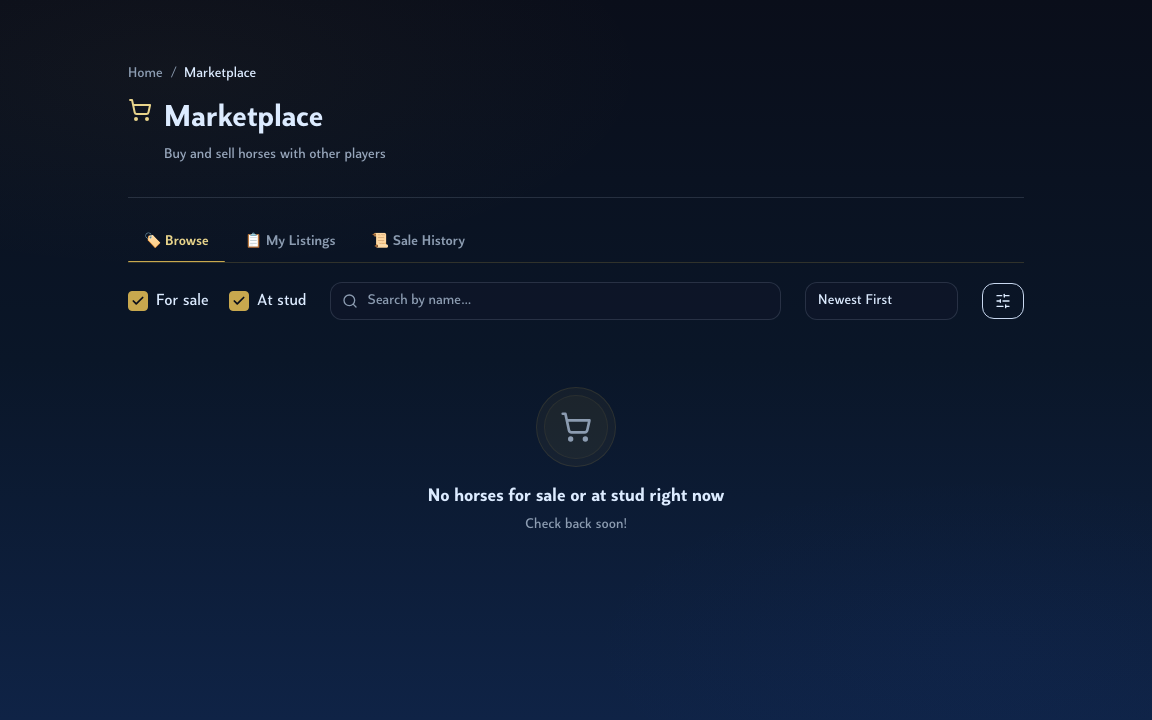
Scenario: HorseMarketplacePage — My Listings + History tabs four-state (Equoria-l22ki) › My Listings: renders error+retry (not a false empty) on a failed fetch
What coordinates should you click on to do the following:
click the tab with test id "tab-my-listings"
I would click on:
 (290, 242)
Its box is x1=229 y1=222 x2=352 y2=262.
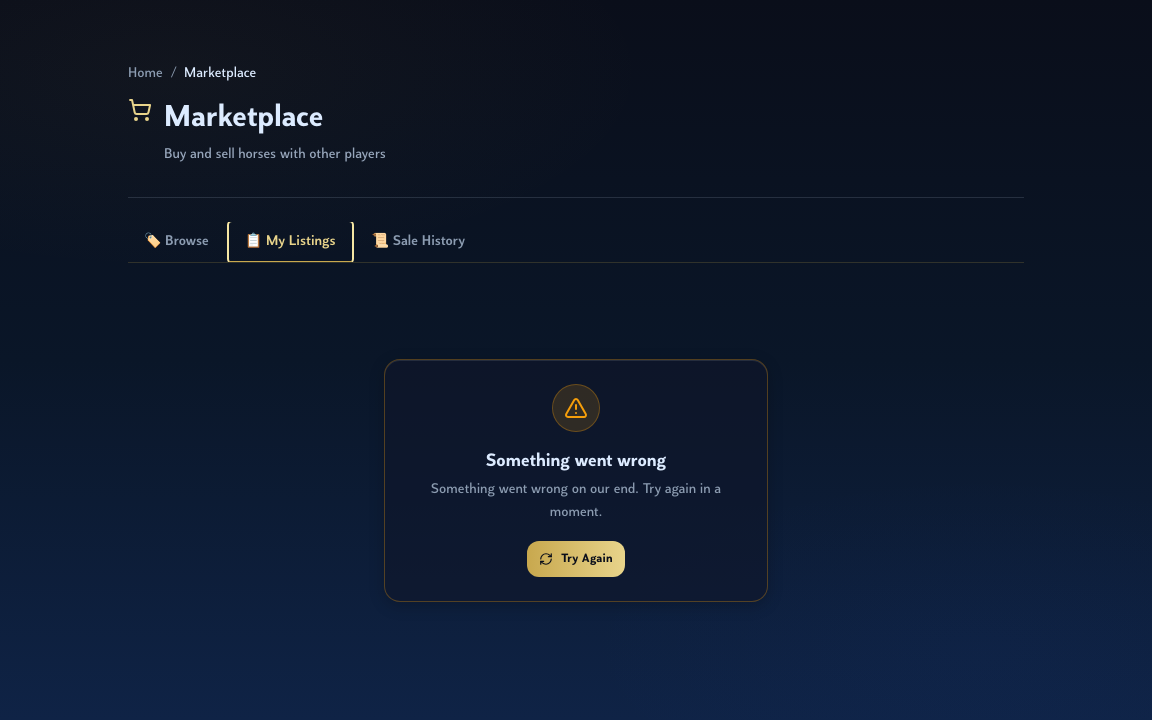
Now the button "Try Again" is shown, box x1=527 y1=540 x2=625 y2=576
